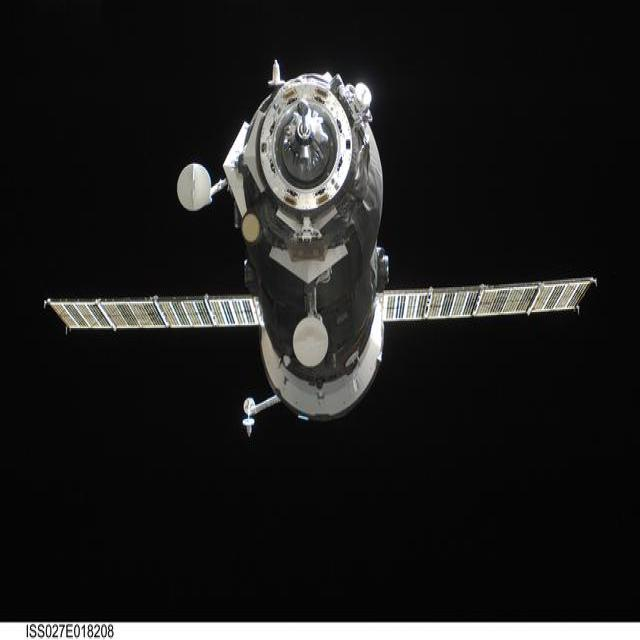medium_debris: (40, 56, 608, 465)
